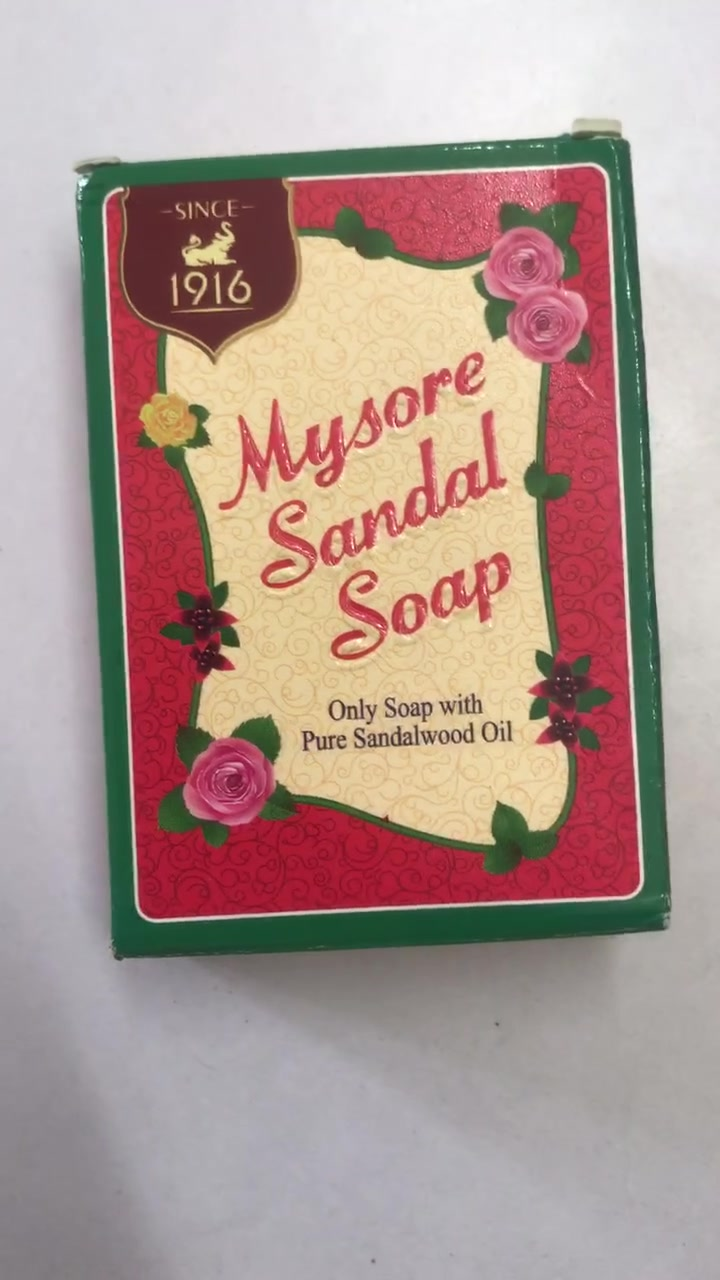mysore sandal soap: (83, 163, 671, 949)
